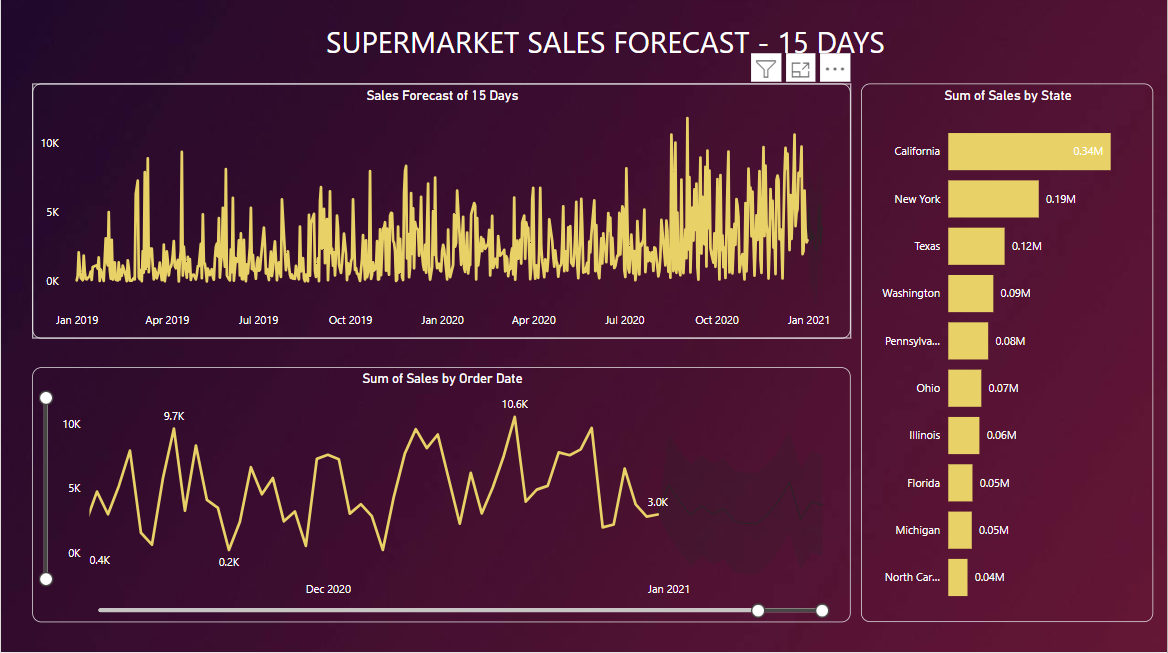

This screenshot's page, from the dashboard's own definition file:
{"tool":"powerbi","page":{"name":"Page 2","canvas":[1280,720],"ordinal":1},"visuals":[{"type":"lineChart","title":"Sales Forecast of 15 Days","fields":{"Y":["Sum(SuperStore_Sales_Dataset.Sales)"],"Category":["SuperStore_Sales_Dataset.Order Date"]},"box":[35,96.5,898.8,279.9],"z":0},{"type":"lineChart","fields":{"Y":["Sum(SuperStore_Sales_Dataset.Sales)"],"Category":["SuperStore_Sales_Dataset.Order Date"]},"box":[35,407.8,898.8,279.9],"z":1000},{"type":"clusteredBarChart","fields":{"Y":["Sum(SuperStore_Sales_Dataset.Sales)"],"Category":["SuperStore_Sales_Dataset.State"]},"box":[944.1,96.1,321.1,591.4],"z":2000},{"type":"textbox","box":[286.8,23.3,753.3,57.6],"z":3000}]}

Visuals, with their boxes in screenshot pixels (x1, y1, x2, y2), scaled from the page's 1280x720 canvas onto the 1168x653 screenshot:
"Sales Forecast of 15 Days" lineChart: (32,88,852,341)
lineChart - Sum(SuperStore_Sales_Dataset.Sales) x SuperStore_Sales_Dataset.Order Date: (32,370,852,624)
clusteredBarChart - Sum(SuperStore_Sales_Dataset.Sales) x SuperStore_Sales_Dataset.State: (861,87,1154,624)
textbox: (262,21,949,73)
